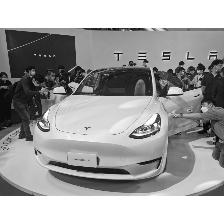EV: (37, 67, 187, 185)
